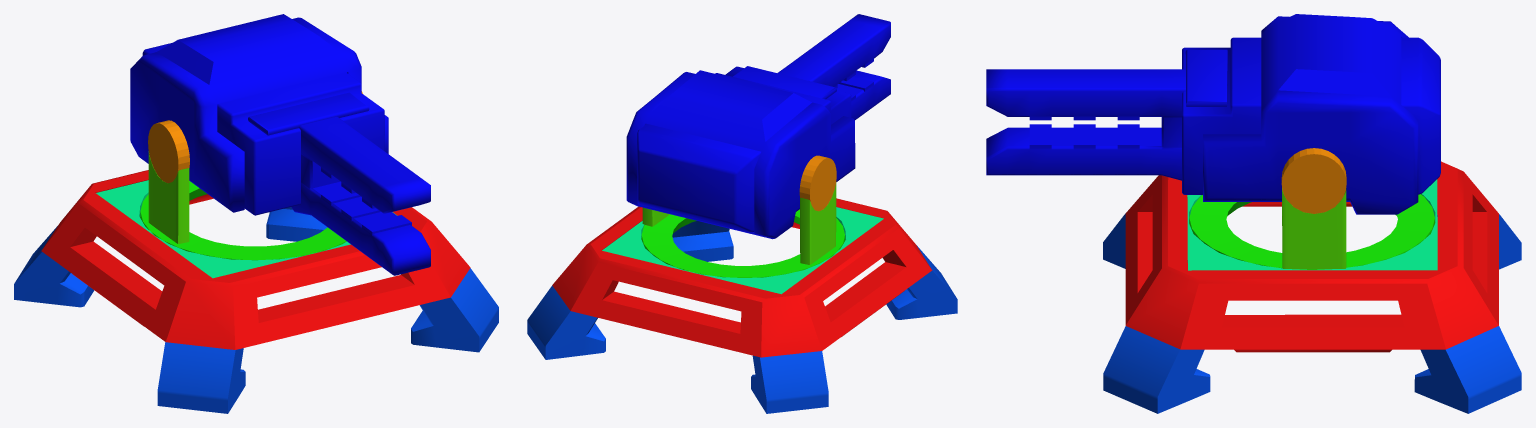
The model's file is SM_Turret.FBX.
The picture shows the model from 3 angles, left to right: view 1: azimuth 30°, elevation 25°; view 2: azimuth 150°, elevation 25°; view 3: azimuth 270°, elevation 25°; orthographic projection. The views are drawn at different scales.
Visible parts, largest first — view 1: Turret_low, Base_low, Legs_low, CircleHinge_low, InnerCircle_low, Hinge1_low, Hinge_low; view 2: Turret_low, Base_low, Legs_low, CircleHinge_low, InnerCircle_low, Hinge1_low, Hinge_low; view 3: Turret_low, Base_low, Legs_low, CircleHinge_low, Hinge1_low, InnerCircle_low, Hinge_low.
Boxes of the visible parts, x1,y1,x2,y2 form: Turret_low: (130, 14, 430, 275); Base_low: (41, 170, 470, 349); Legs_low: (14, 207, 498, 413); CircleHinge_low: (140, 181, 346, 260); InnerCircle_low: (96, 180, 397, 278); Hinge1_low: (148, 151, 189, 243); Hinge_low: (148, 91, 362, 183); Turret_low: (626, 14, 890, 239); Base_low: (552, 198, 932, 357); Legs_low: (527, 221, 957, 413); CircleHinge_low: (641, 209, 845, 277); InnerCircle_low: (602, 207, 883, 294); Hinge1_low: (642, 182, 836, 264); Hinge_low: (799, 155, 836, 211); Turret_low: (986, 14, 1440, 214); Base_low: (1125, 161, 1498, 352); Legs_low: (1103, 213, 1521, 413); CircleHinge_low: (1189, 194, 1435, 269); Hinge1_low: (1282, 188, 1346, 269); InnerCircle_low: (1187, 179, 1437, 270); Hinge_low: (1281, 148, 1346, 213).
Bounding box in the file's own units: 50.41 × 37.73 × 64.23.
